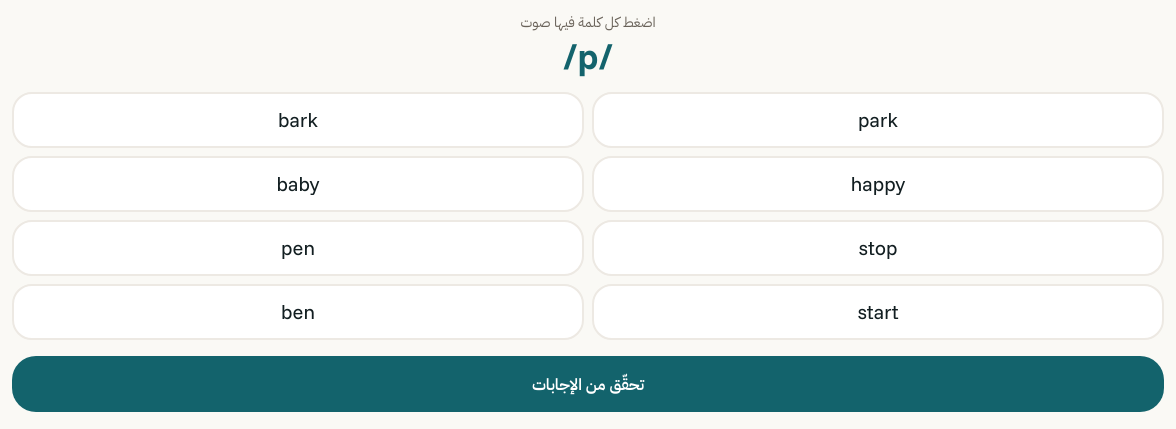
Test: SpotTheSoundGame › locks the grid once submitted
The width and height of the screenshot is (1176, 429).
Click the button "تحقّق من الإجابات" at (588, 384), box 12,356 -> 1164,412
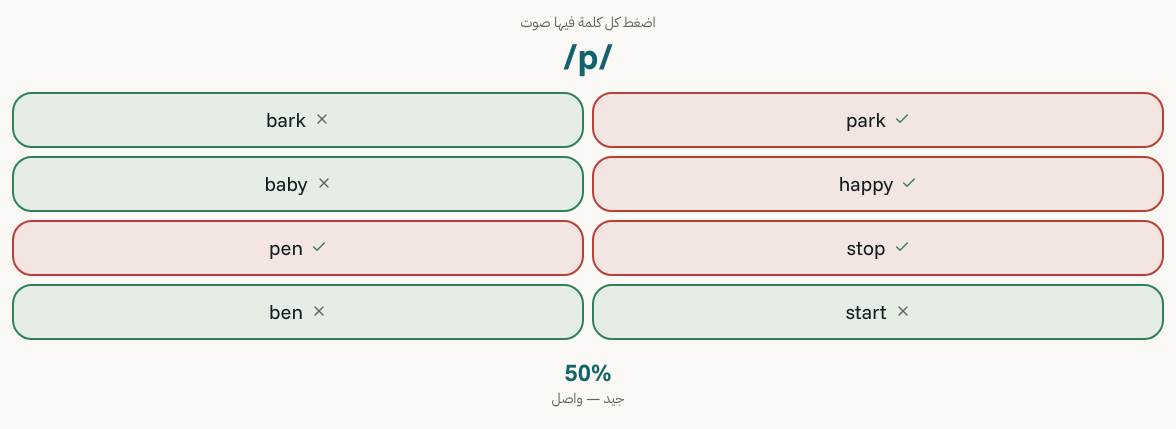
Expected: the button "تحقّق من الإجابات" is gone
